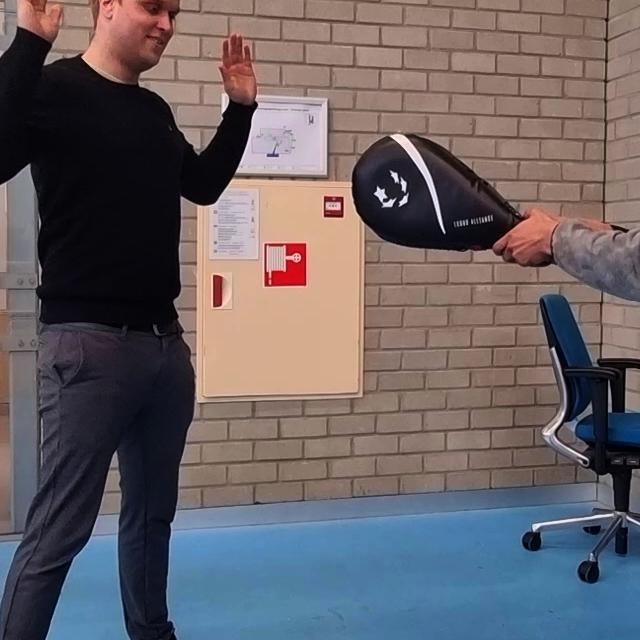paddle: (344, 124, 541, 257)
